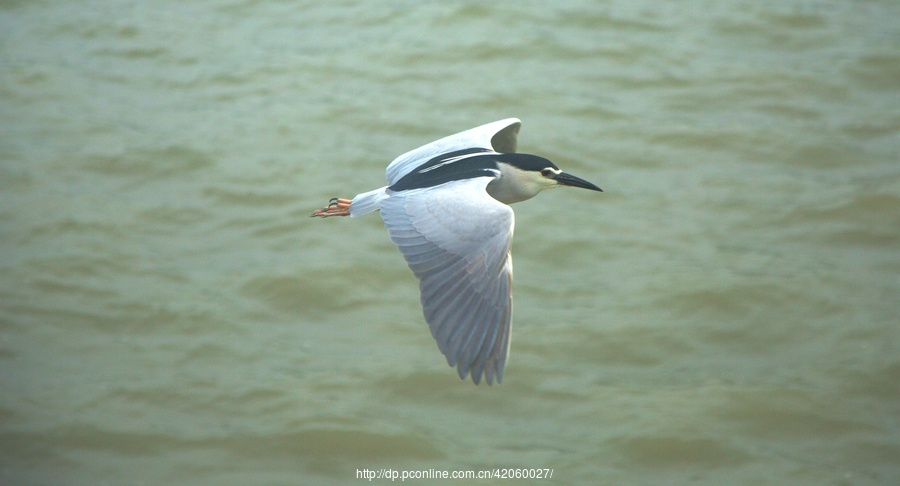bird: (290, 108, 603, 387)
